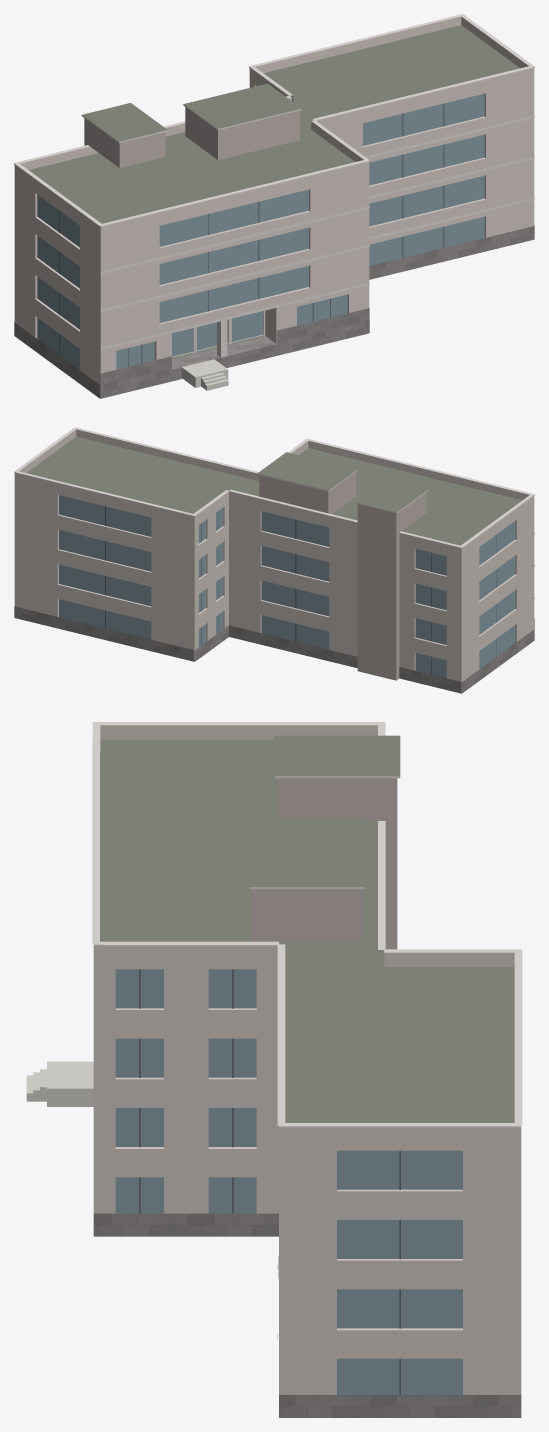
3 renders of one model, top to bottom at view 1: azimuth 30°, elevation 25°; view 2: azimuth 150°, elevation 25°; view 3: azimuth 270°, elevation 25°, orthographic. The views are drawn at different scales.
Parts seen in each view (by area): view 1: b921__wall, b921__roof, b921__glass, b921__base, b921__trim, b921__parapet, b921__wall2, b921__entranceStair, b921__frame; view 2: b921__wall, b921__glass, b921__roof, b921__wall2, b921__parapet, b921__base, b921__trim, b921__frame; view 3: b921__roof, b921__wall, b921__glass, b921__wall2, b921__parapet, b921__trim, b921__base, b921__entranceStair, b921__frame.
Boxes of the visible parts, <box> form: b921__wall: <box>14,75,534,398</box>; b921__roof: <box>29,25,519,398</box>; b921__glass: <box>37,93,484,369</box>; b921__base: <box>14,225,534,398</box>; b921__trim: <box>14,14,534,350</box>; b921__parapet: <box>14,16,534,234</box>; b921__wall2: <box>84,107,299,167</box>; b921__entranceStair: <box>181,359,228,390</box>; b921__frame: <box>59,103,444,366</box>; b921__wall: <box>14,479,534,692</box>; b921__glass: <box>59,495,514,678</box>; b921__roof: <box>26,436,521,545</box>; b921__wall2: <box>259,472,426,680</box>; b921__parapet: <box>14,429,534,554</box>; b921__base: <box>14,606,534,693</box>; b921__trim: <box>14,427,534,598</box>; b921__frame: <box>105,506,496,674</box>; b921__roof: <box>100,735,514,1122</box>; b921__wall: <box>93,958,521,1394</box>; b921__glass: <box>115,969,462,1394</box>; b921__wall2: <box>252,778,397,949</box>; b921__parapet: <box>93,725,521,1139</box>; b921__trim: <box>92,722,522,1338</box>; b921__base: <box>93,1213,521,1417</box>; b921__entranceStair: <box>26,1061,93,1106</box>; b921__frame: <box>139,969,400,1394</box>.
Bounding box in the file's own units: 44.98 × 17.57 × 23.32.
11 materials, 1 textured.
